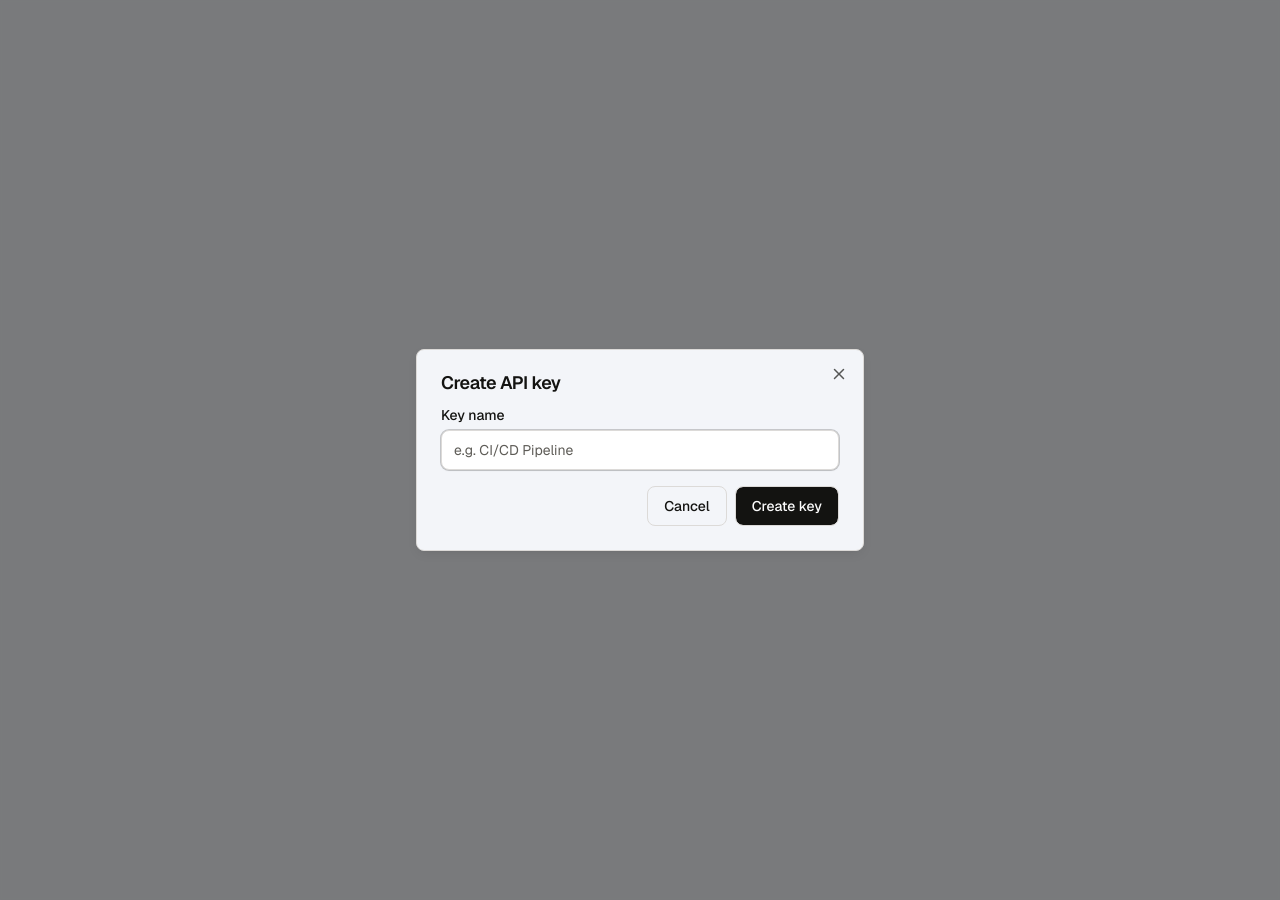
Test: CreateApiKeyDialog › requires a name before submitting
The width and height of the screenshot is (1280, 900).
Click the button "Create key" at x=787, y=506, box [735,486,839,526]
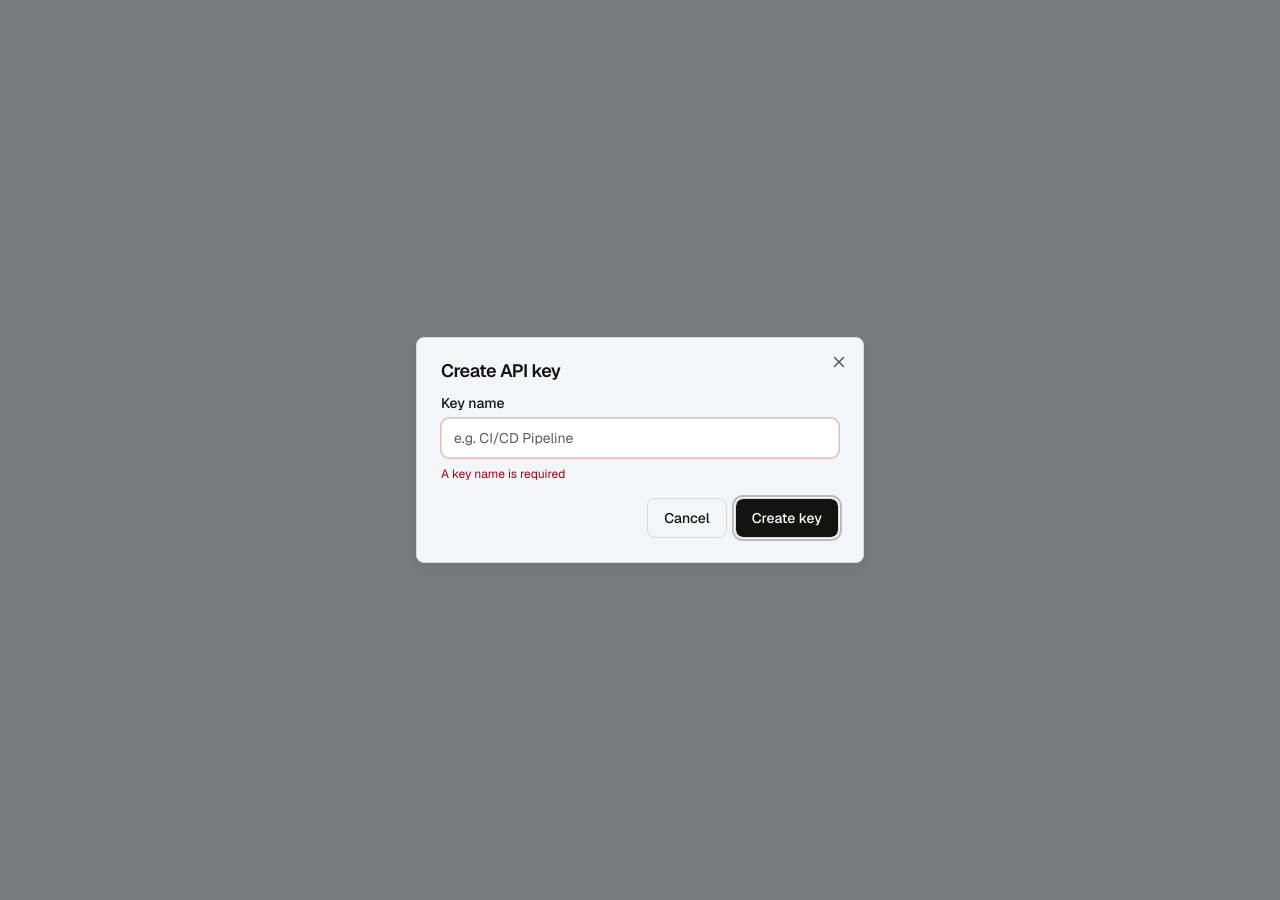
Result: the message reads "A key name is required" at [441,466,565,482]
